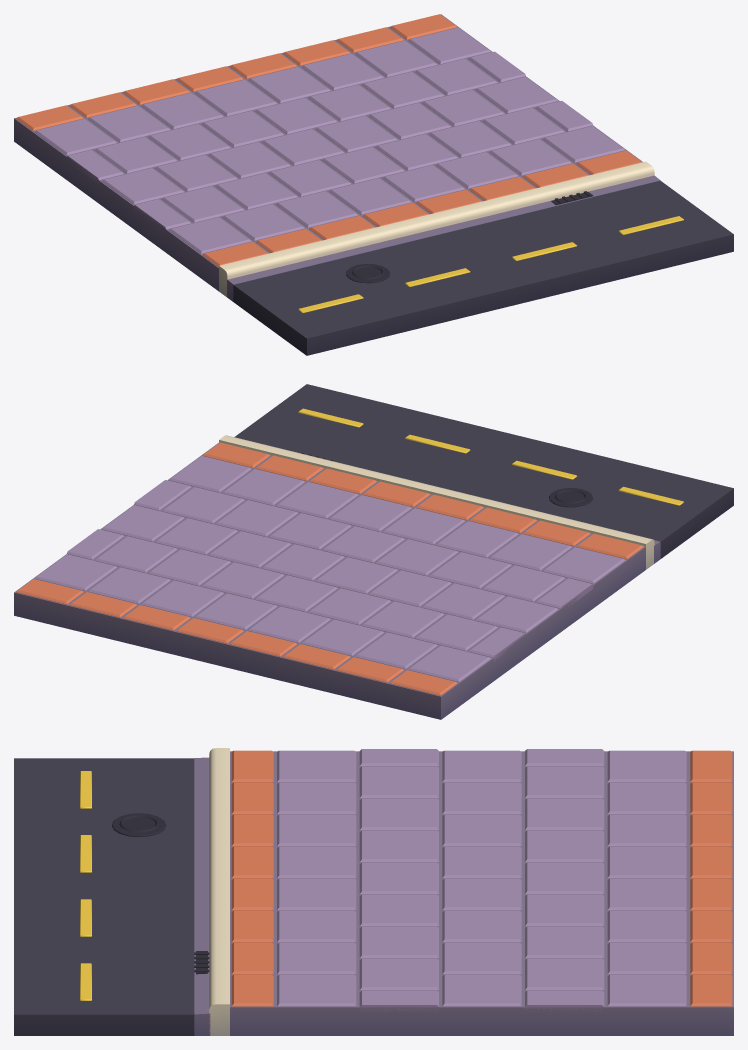
File: sidewalk_tile.glb
3 views of the same model, one above another, from view 1: azimuth 30°, elevation 25°; view 2: azimuth 150°, elevation 25°; view 3: azimuth 270°, elevation 25° (orthographic). The views are drawn at different scales.
Visible parts, largest first — view 1: sidewalk_tile; view 2: sidewalk_tile; view 3: sidewalk_tile.
Boxes of the visible parts, x1,y1,x2,y2 form: sidewalk_tile: (14, 14, 733, 355); sidewalk_tile: (14, 384, 733, 719); sidewalk_tile: (14, 748, 733, 1035).
Bounding box in the file's own units: 8 × 0.4622 × 9.5.
